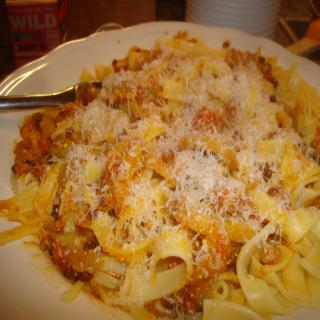Pasta: (0, 31, 320, 320)
